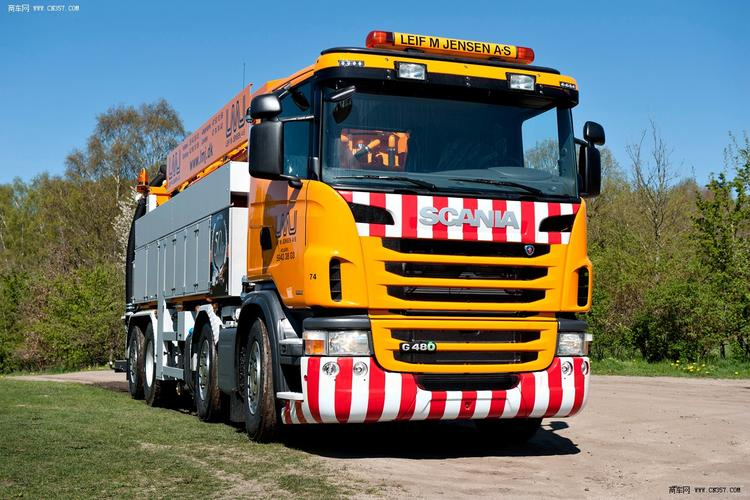卡车: (99, 26, 599, 446)
